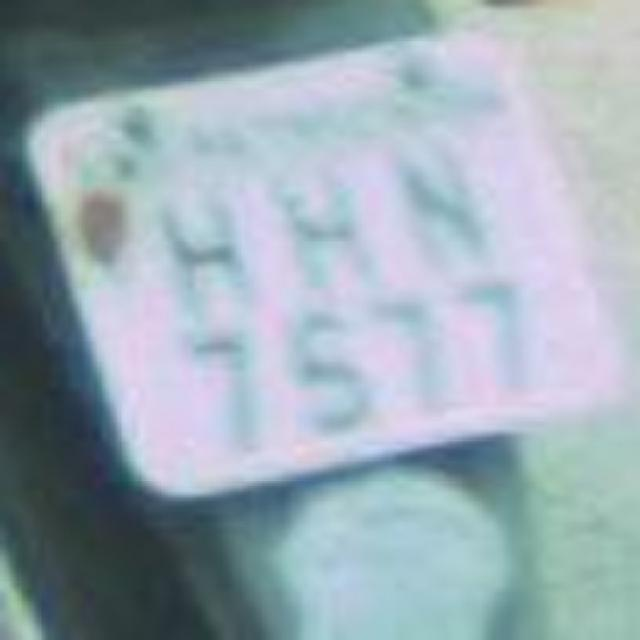5: (272, 304, 388, 436)
7: (160, 311, 280, 464), (428, 276, 564, 396), (360, 288, 472, 420)
B: (260, 155, 385, 300)
H: (148, 180, 264, 320)
N: (384, 132, 508, 272)
